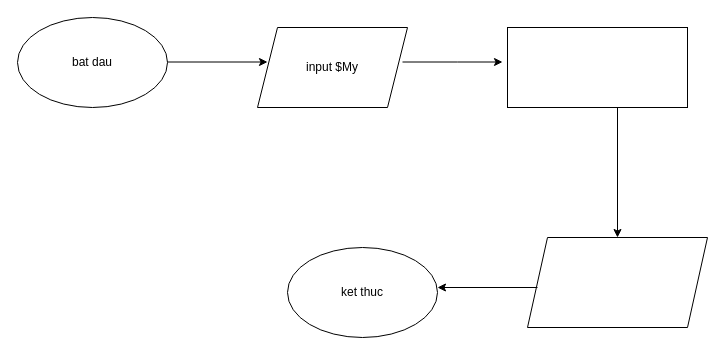
Image size: 725x355. Some labels were removed from this diagram. The centre of each missing label's shape, as x and y in pixels:
"output: Tong so tien doi duoc" goes at (617,282).
"VND = $My * 23000" goes at (597,67).
